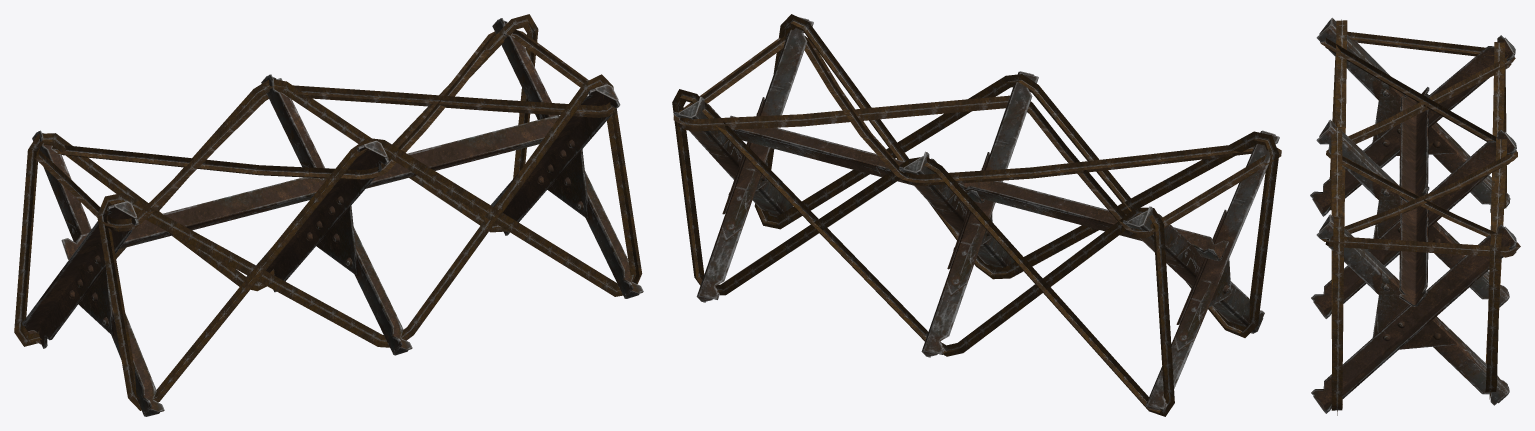
The model's file is Metal_Obstacles_03.FBX.
The picture shows the model from 3 angles, left to right: view 1: azimuth 30°, elevation 25°; view 2: azimuth 150°, elevation 25°; view 3: azimuth 270°, elevation 25°; orthographic projection. The views are drawn at different scales.
Visible parts, largest first — view 1: Metal_Obstacles_wire_03, Metal_Obstacles_03; view 2: Metal_Obstacles_wire_03, Metal_Obstacles_03; view 3: Metal_Obstacles_03, Metal_Obstacles_wire_03.
Part boxes in pixels (x1=…): Metal_Obstacles_wire_03: x1=14, y1=14, x2=642, y2=410; Metal_Obstacles_03: x1=22, y1=18, x2=643, y2=416; Metal_Obstacles_wire_03: x1=672, y1=14, x2=1281, y2=416; Metal_Obstacles_03: x1=674, y1=17, x2=1279, y2=410; Metal_Obstacles_03: x1=1310, y1=17, x2=1516, y2=413; Metal_Obstacles_wire_03: x1=1320, y1=19, x2=1520, y2=415.
Size of the model in its own units: 484 by 195 by 194.
